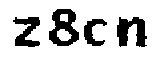8: (46, 7, 82, 50)
c: (84, 18, 107, 49)
n: (113, 16, 149, 50)
z: (10, 15, 43, 51)
